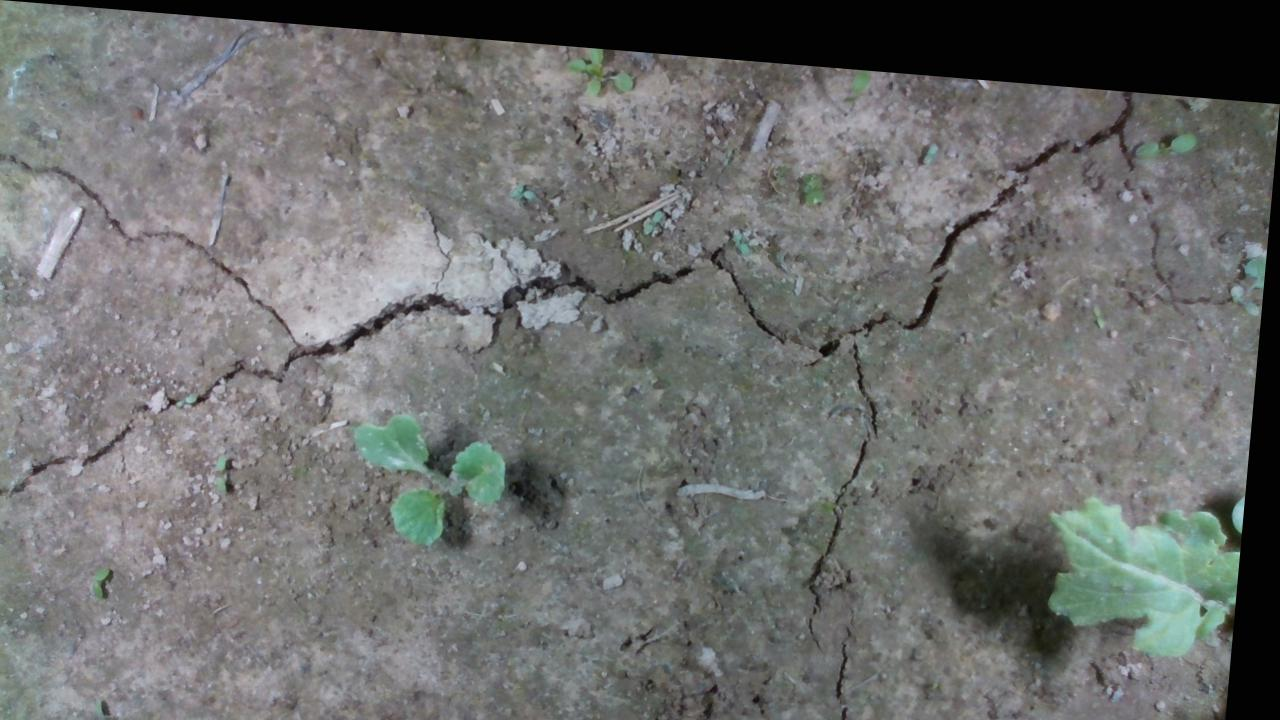weed: (91, 559, 131, 602), (214, 445, 245, 487)
